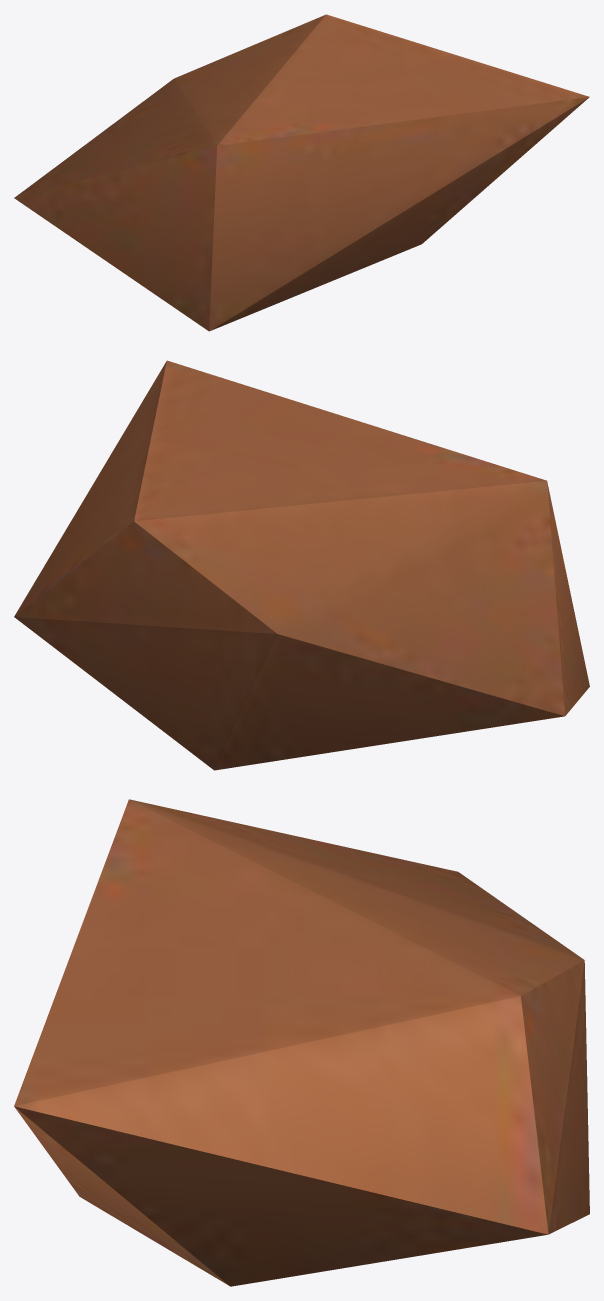
Rendered from copper-bacteria.glb.
3 views of the same model, one above another, from view 1: azimuth 30°, elevation 25°; view 2: azimuth 150°, elevation 25°; view 3: azimuth 270°, elevation 25° (orthographic). The views are drawn at different scales.
Visible parts, largest first — view 1: copper-bacteria; view 2: copper-bacteria; view 3: copper-bacteria.
Boxes of the visible parts, bbox=[...] form: copper-bacteria: bbox=[14, 14, 589, 331]; copper-bacteria: bbox=[14, 360, 589, 770]; copper-bacteria: bbox=[14, 799, 589, 1286].
Bounding box in the file's own units: 0.22 × 0.08 × 0.14.
1 material, 1 textured.
